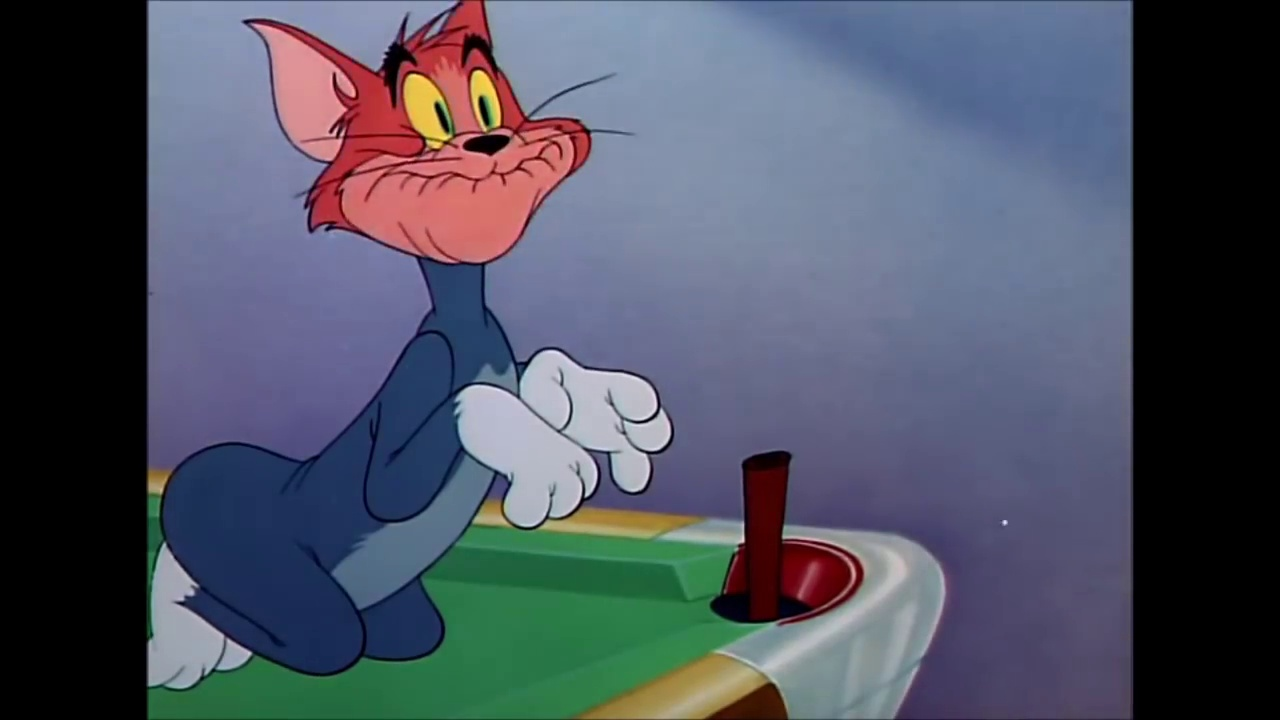sad: (383, 13, 534, 264)
